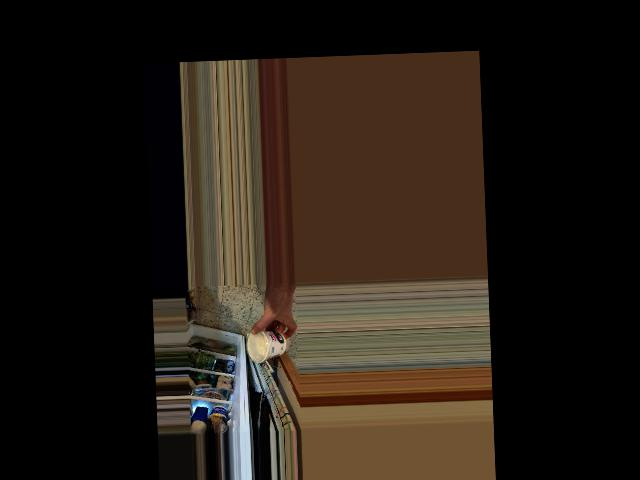cotage: (243, 327, 286, 362)
